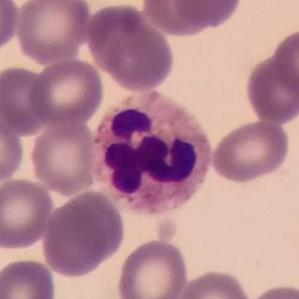Neutrophil: (90, 87, 216, 223)
RBC: (85, 1, 177, 92), (39, 188, 127, 279), (28, 118, 100, 196), (27, 57, 106, 127), (209, 118, 292, 184), (13, 0, 92, 64), (114, 237, 190, 299), (0, 175, 56, 252), (243, 53, 299, 125), (0, 63, 50, 136), (139, 0, 223, 38), (0, 256, 58, 299), (176, 267, 253, 299), (170, 0, 243, 32), (0, 105, 27, 187), (270, 26, 299, 94), (0, 1, 21, 55), (245, 281, 298, 299)
